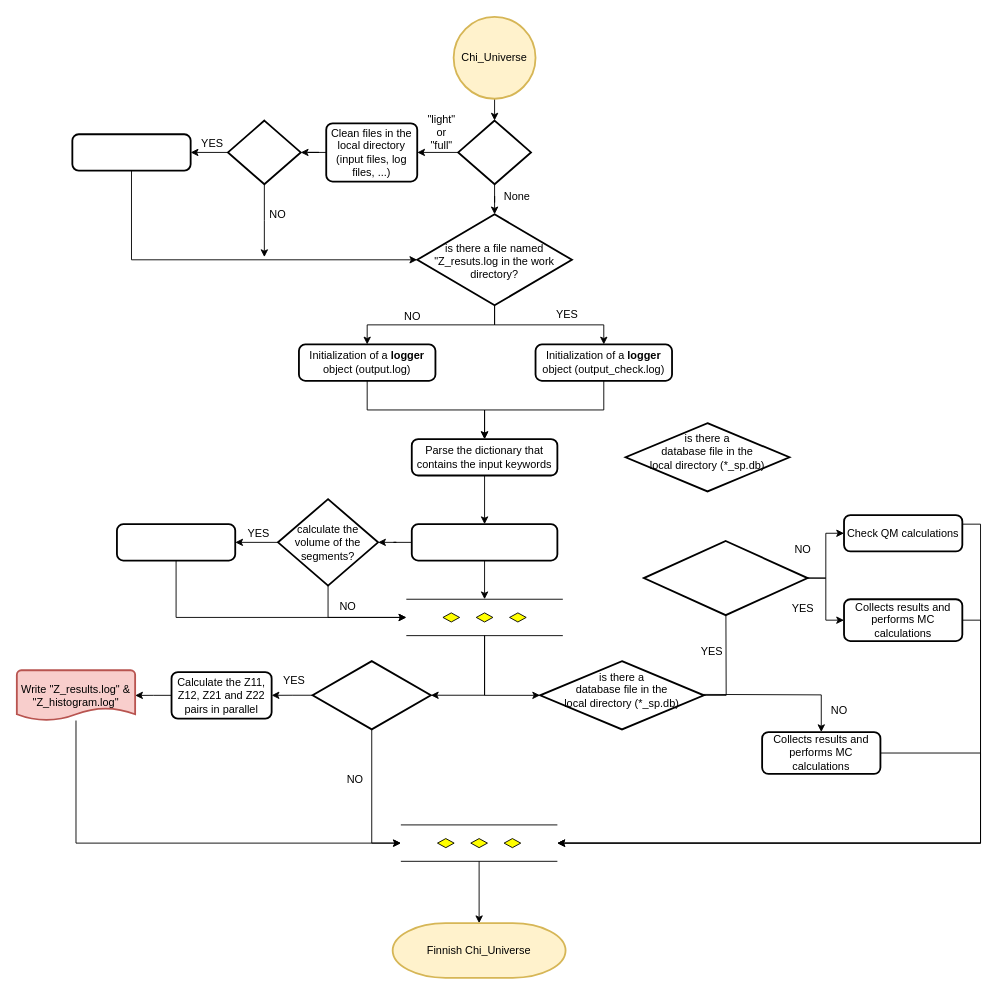
Some shapes in this 1004 by 994 pixel diagram are drawn without their labels. The shapes that lost their labels are listed below. From the top down, each one's box as (x1, y1, x2, y2) in pixels, then its label:
(71, 133, 191, 171): Delete "Z_results.log" and "*_sp.db" files
(227, 119, 301, 185): "full"?
(457, 119, 531, 185): clean_files?
(116, 523, 236, 561): Calculate the volume of the segments
(410, 523, 558, 561): Create Segments
(642, 540, 808, 616): is there a file Done in the local directory
(311, 660, 431, 730): Calculate the coordination numbers (Z)?
